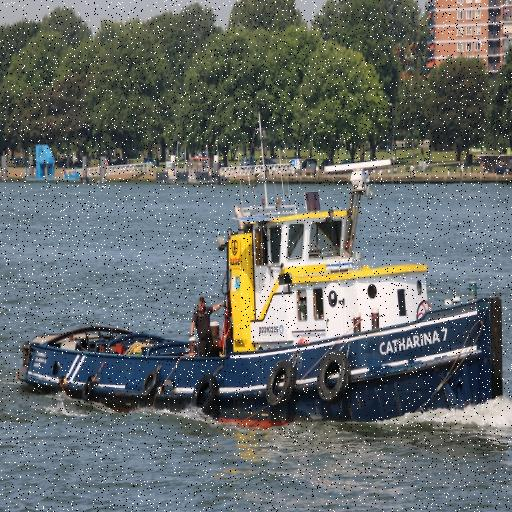tugboat: (17, 156, 510, 442)
